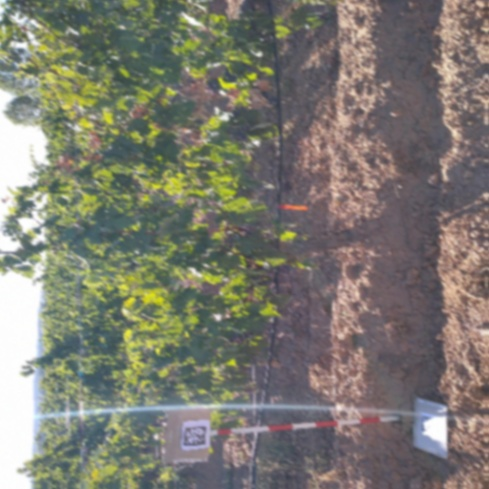QR: (184, 428, 209, 449)
